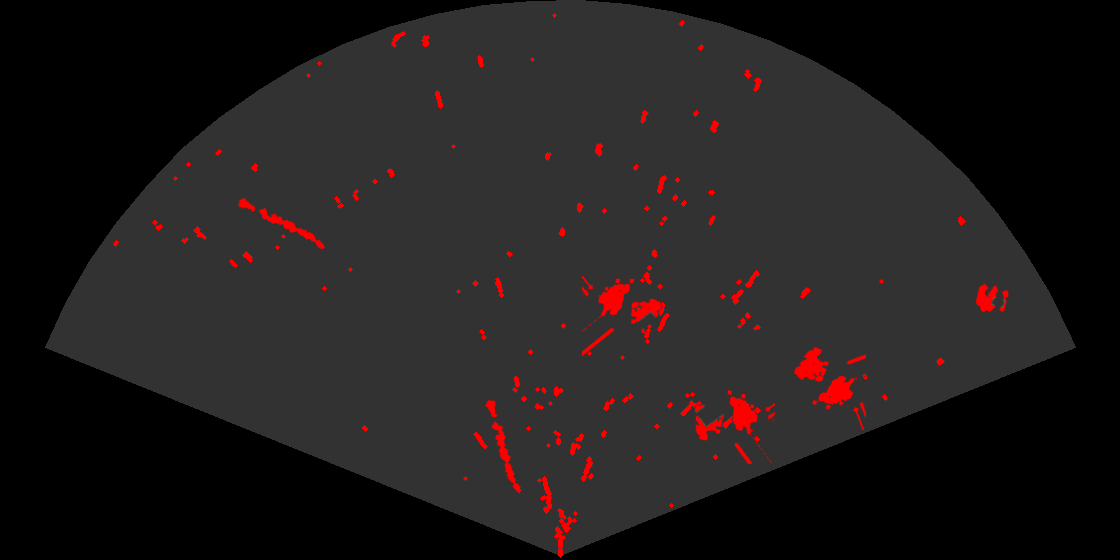ball: (974, 282, 1010, 314)
cage: (582, 274, 663, 356), (792, 345, 866, 430), (693, 388, 775, 464)
chain: (236, 197, 327, 251), (483, 397, 523, 495)
